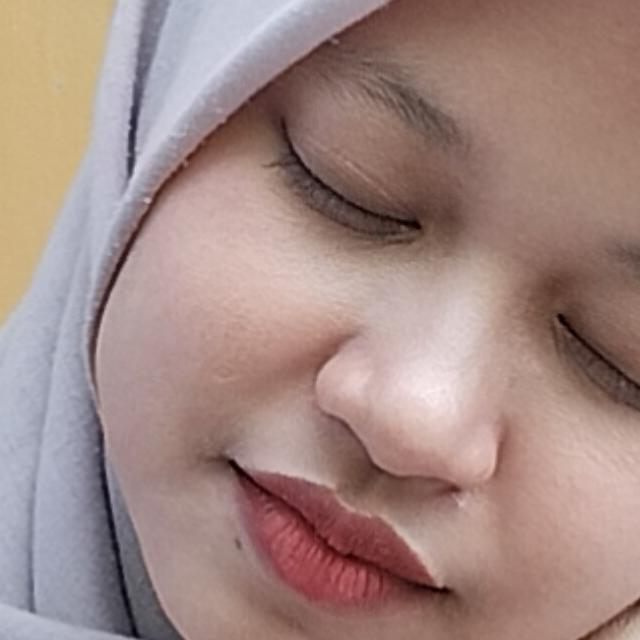tidur: (66, 238, 640, 640)
